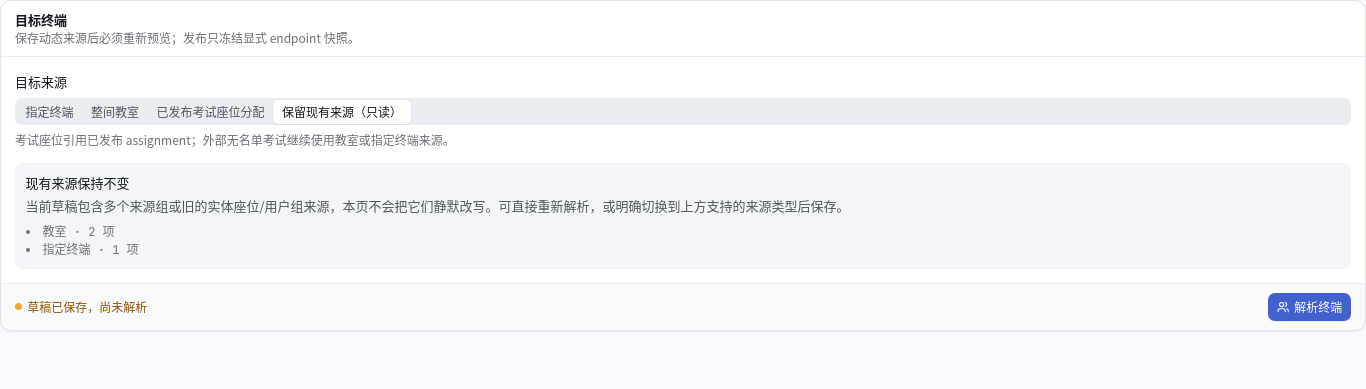
Test: exam event target step › 改选指定终端但终端无法解析时，禁止保存并解析
Click the tab "指定终端": (50, 112) [17,100,82,124]
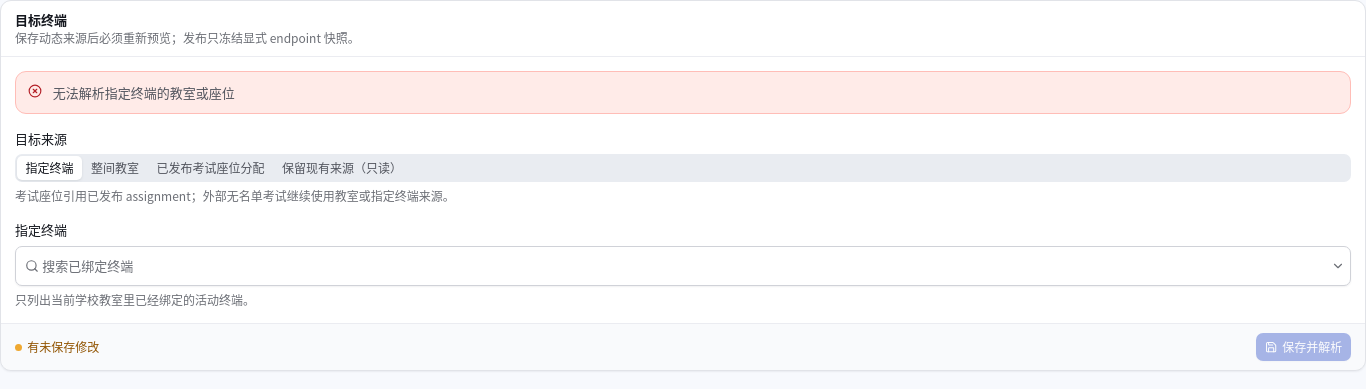
Expected: the message reads "无法解析指定终端的教室或座位", [53,82,235,102]
Expected: the button "保存并解析" is disabled, [1256,333,1351,361]
